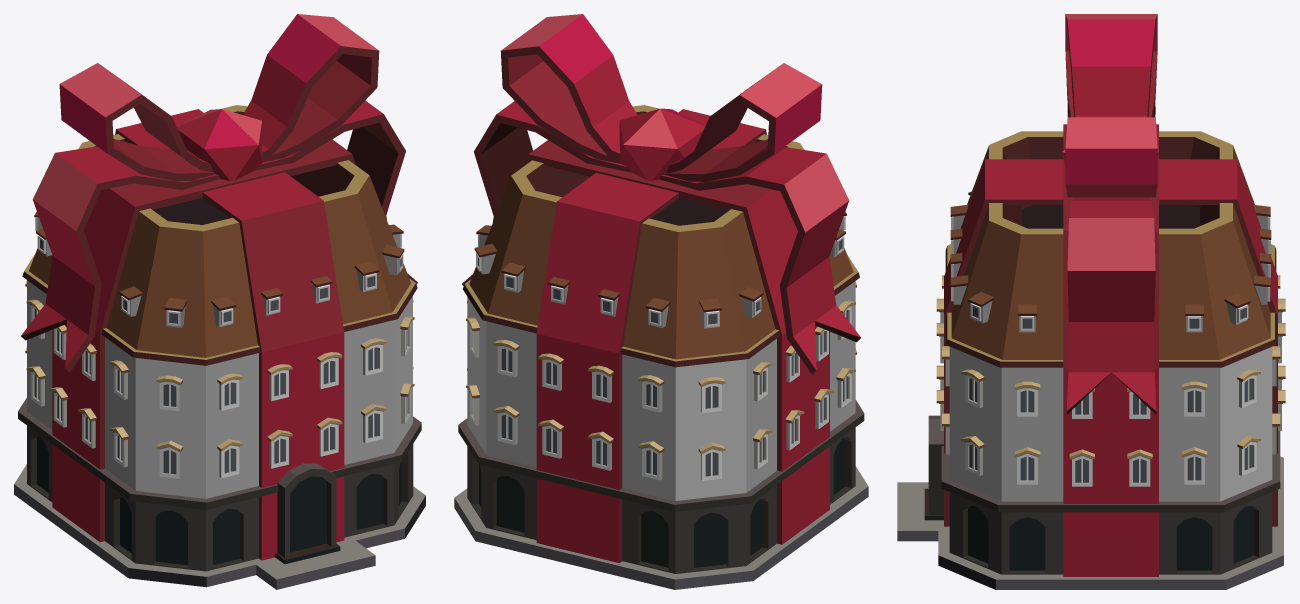
The model's file is TB_CITY_Uniq_DepartmentStore.FBX.
3 views of the same model, side by side, from view 1: azimuth 30°, elevation 25°; view 2: azimuth 150°, elevation 25°; view 3: azimuth 270°, elevation 25° (orthographic).
Parts seen in each view (by area): view 1: TB_CITY_Uniq_DepartmentStore; view 2: TB_CITY_Uniq_DepartmentStore; view 3: TB_CITY_Uniq_DepartmentStore.
Boxes of the visible parts, bbox=[...] form: TB_CITY_Uniq_DepartmentStore: bbox=[14, 14, 425, 589]; TB_CITY_Uniq_DepartmentStore: bbox=[454, 14, 868, 589]; TB_CITY_Uniq_DepartmentStore: bbox=[897, 14, 1285, 589].
Size of the model in its own units: 28.44 by 34.32 by 26.92.
